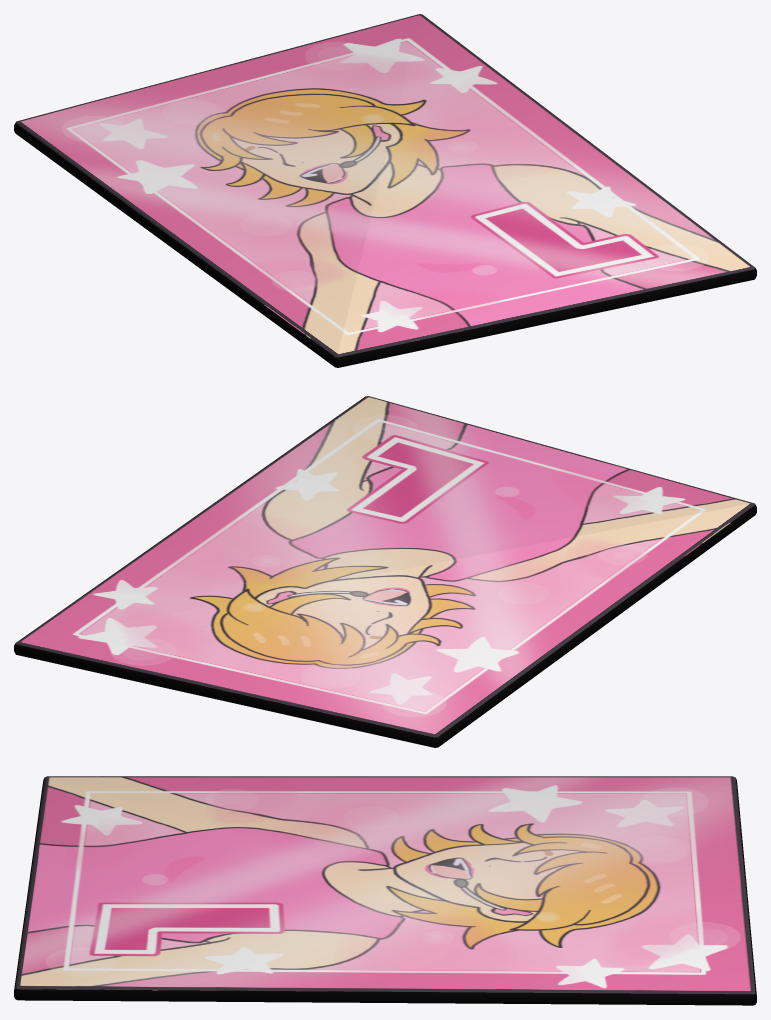
Rendered from PosterCantora.fbx.
The picture shows the model from 3 angles, top to bottom: view 1: azimuth 30°, elevation 25°; view 2: azimuth 150°, elevation 25°; view 3: azimuth 270°, elevation 25°; orthographic projection. The views are drawn at different scales.
Visible parts, largest first — view 1: PosterCantora; view 2: PosterCantora; view 3: PosterCantora.
Part boxes in pixels (x1,y1,x2,y2): PosterCantora: [14, 14, 756, 367]; PosterCantora: [14, 396, 756, 747]; PosterCantora: [14, 776, 756, 1005].
Bounding box in the file's own units: 100 × 2.91 × 144.
